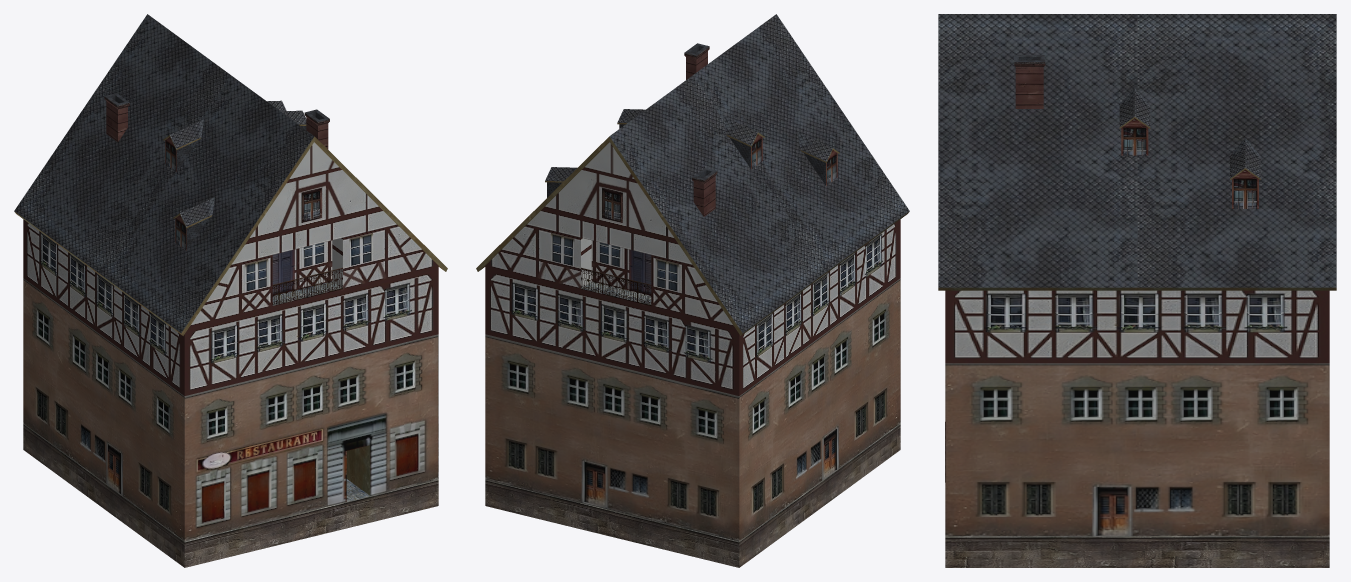
The model's file is restaurant.obj.
3 renders of one model, left to right at view 1: azimuth 30°, elevation 25°; view 2: azimuth 150°, elevation 25°; view 3: azimuth 270°, elevation 25°, orthographic. The views are drawn at different scales.
Parts seen in each view (by area): view 1: restaurant; view 2: restaurant; view 3: restaurant.
Boxes of the visible parts, x1=… form: restaurant: x1=14, y1=14, x2=447, y2=567; restaurant: x1=476, y1=14, x2=909, y2=567; restaurant: x1=938, y1=14, x2=1336, y2=567.
Bounding box in the file's own units: 11.62 × 16.77 × 12.61.
1 material, 1 textured.
